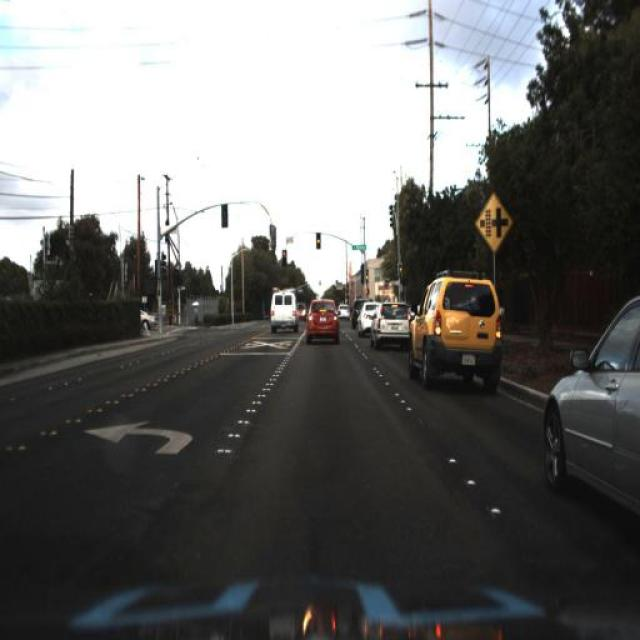car: (543, 294, 639, 530), (405, 272, 514, 396), (294, 287, 347, 347), (371, 292, 408, 352), (267, 287, 295, 333), (358, 296, 377, 342), (137, 305, 159, 330)
trafficLight-Green: (312, 227, 322, 261), (279, 243, 289, 267)
